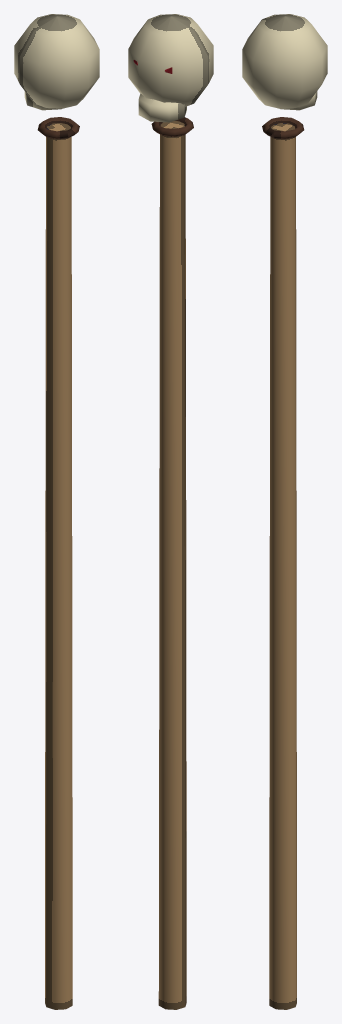
File: skull_staff.glb
The picture shows the model from 3 angles, left to right: view 1: azimuth 30°, elevation 25°; view 2: azimuth 150°, elevation 25°; view 3: azimuth 330°, elevation 25°; orthographic projection.
Visible parts, largest first — view 1: skull_staff; view 2: skull_staff; view 3: skull_staff.
Boxes of the visible parts, x1,y1,x2,y2 form: skull_staff: [14, 14, 99, 1009]; skull_staff: [128, 14, 213, 1009]; skull_staff: [242, 14, 327, 1009].
Bounding box in the file's own units: 0.0951 × 1.21 × 0.0909.
1 material, 1 textured.
